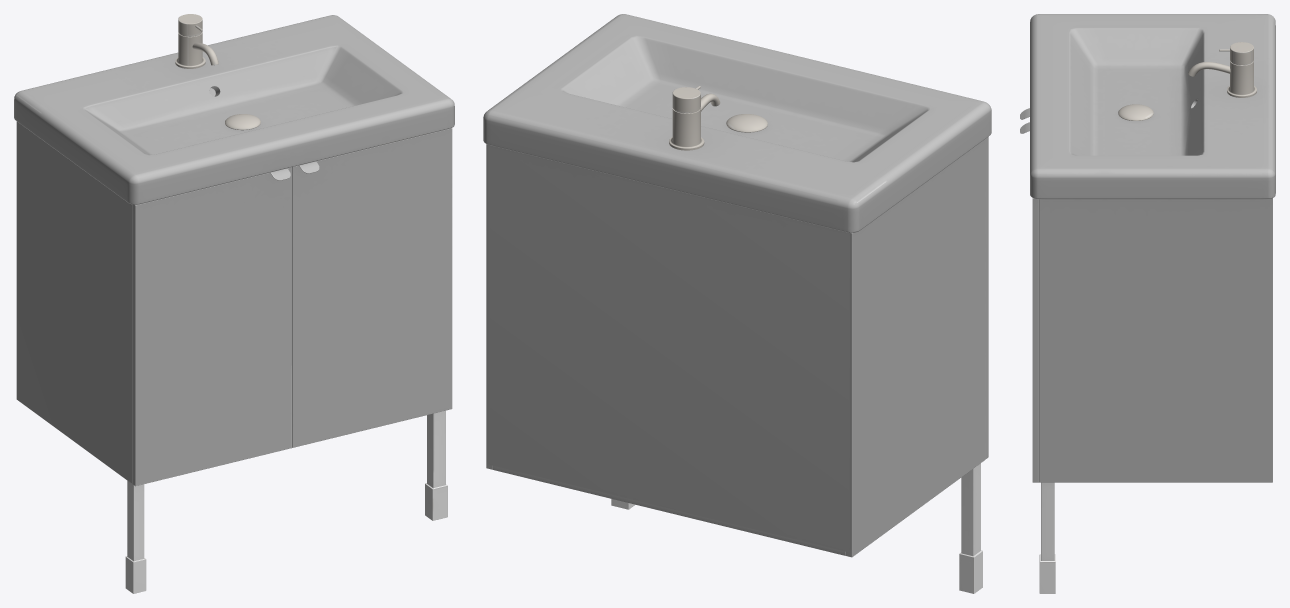
The model's file is Sinkwithtaps_ (Glossy_white)002.gltf.
3 views of the same model, side by side, from view 1: azimuth 30°, elevation 25°; view 2: azimuth 150°, elevation 25°; view 3: azimuth 270°, elevation 25° (orthographic). The views are drawn at different scales.
Visible parts, largest first — view 1: Sinkwithtaps_002; view 2: Sinkwithtaps_002; view 3: Sinkwithtaps_002.
Boxes of the visible parts, box(x1,y1,x2,y2) form: Sinkwithtaps_002: box(14, 14, 454, 593); Sinkwithtaps_002: box(483, 14, 991, 593); Sinkwithtaps_002: box(1020, 14, 1275, 593).
Bounding box in the file's own units: 0.64 × 0.87 × 0.43.
1 material, 1 textured.
